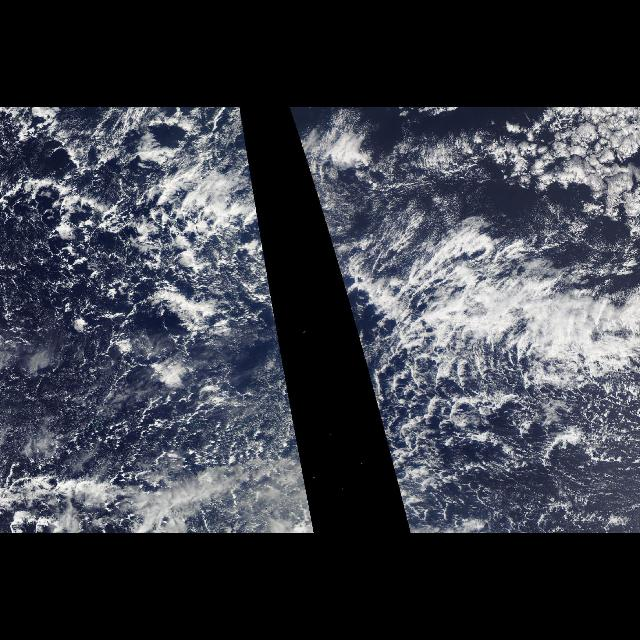Fish: (333, 186, 639, 404)
Gravel: (3, 112, 266, 480), (373, 398, 634, 530)
